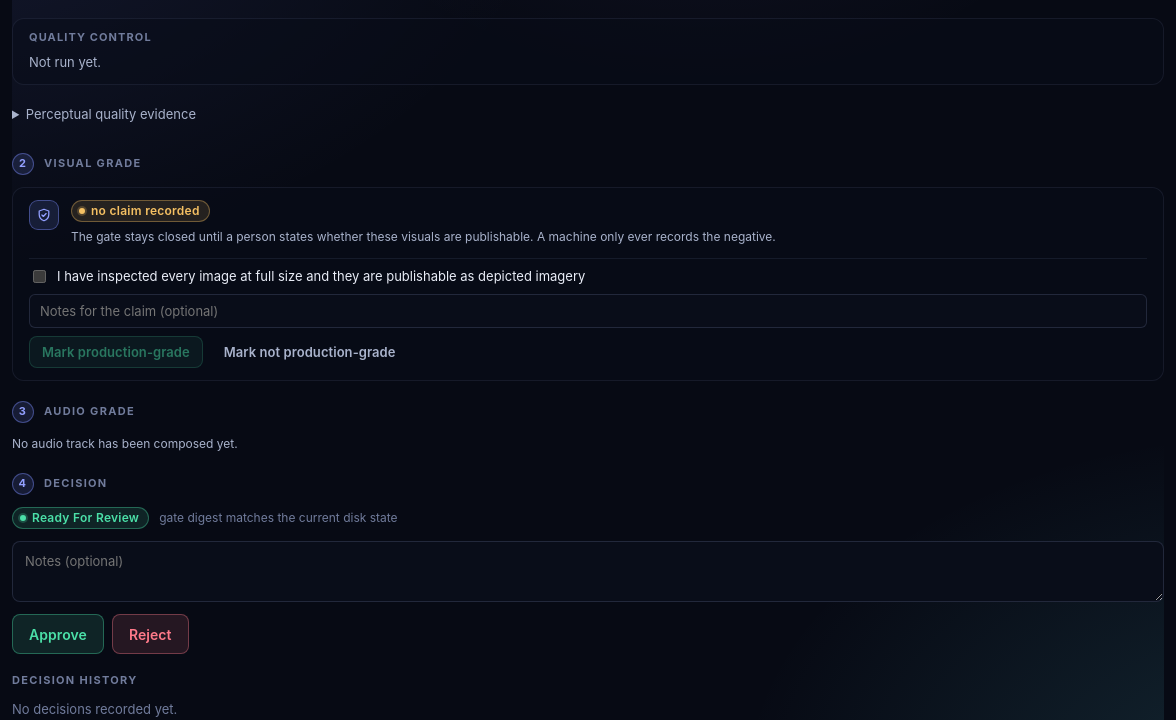
it: ReviewPanel › shows a conflict notice, not a hard error, on a 409 refusal
(page scrolled)
Click the button "Reject": (150, 634) [112, 614, 189, 654]
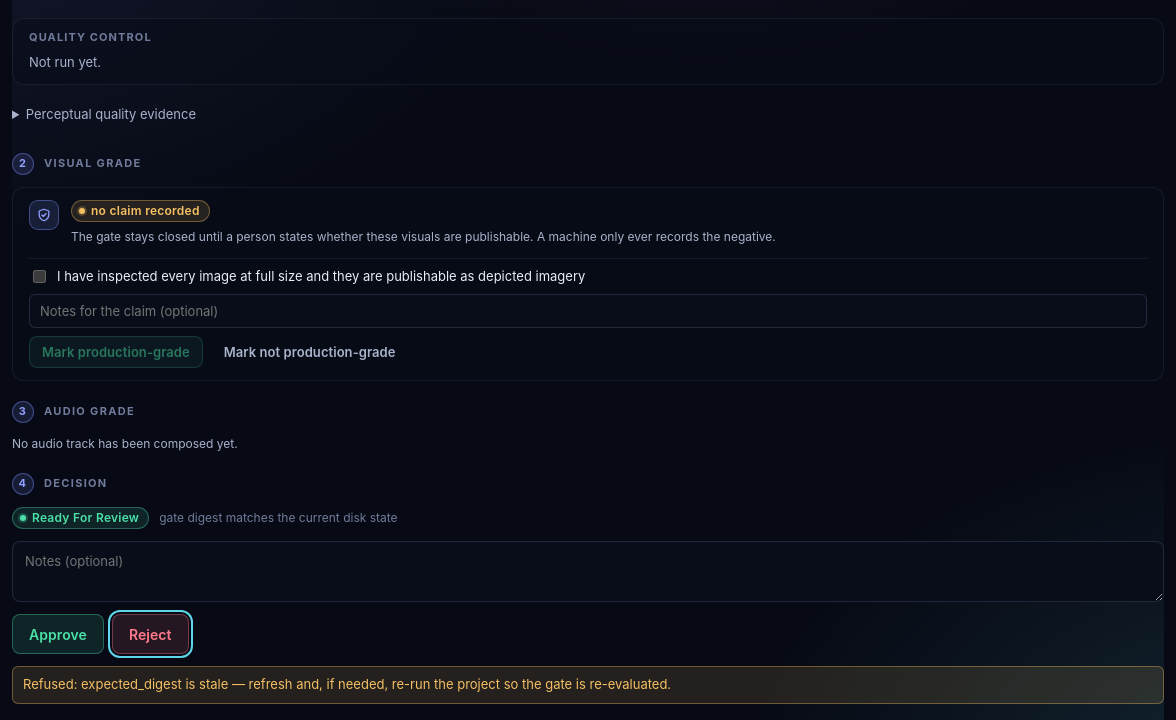
Result: the message shows "expected_digest is stale" at [23, 676, 671, 692]
